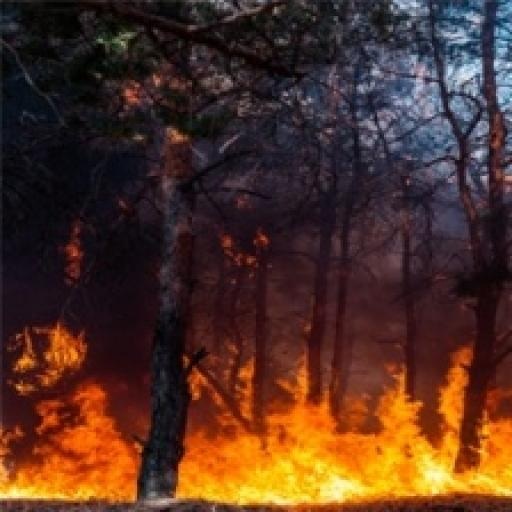fire and smoke: (179, 350, 511, 502)
